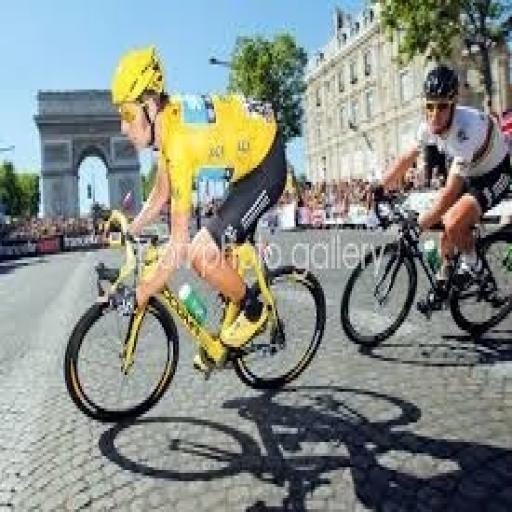cycling: (106, 42, 291, 369), (367, 62, 510, 314)
